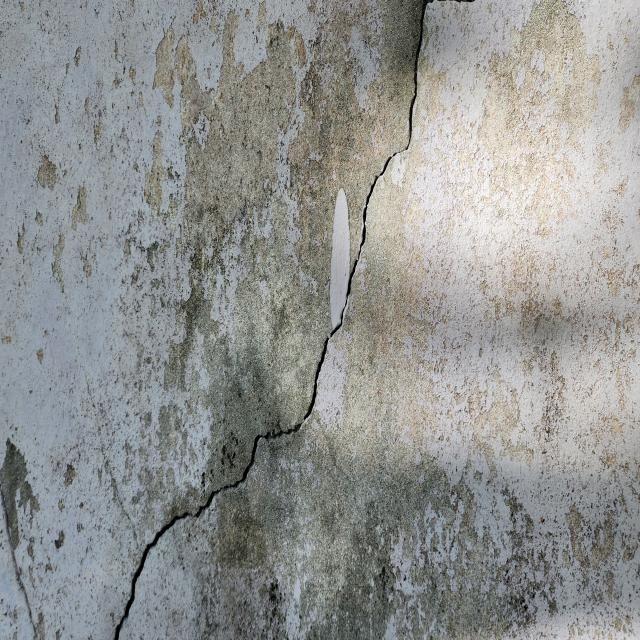SurfaceCrack: (72, 1, 471, 640)
